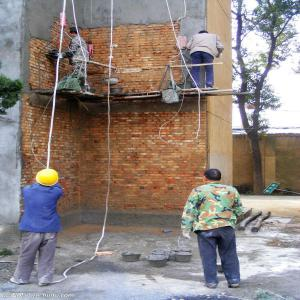none: (203, 169, 223, 187), (68, 26, 79, 38), (197, 29, 209, 37)
yellow: (35, 169, 59, 191)
